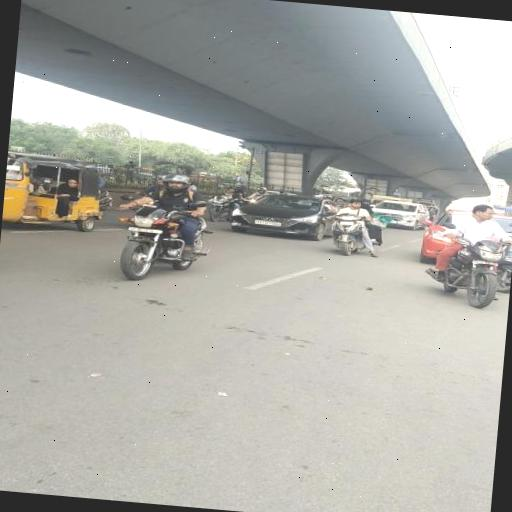helmet: (122, 164, 200, 219)
no helmet: (461, 188, 508, 256), (323, 188, 384, 233), (206, 183, 250, 225)
